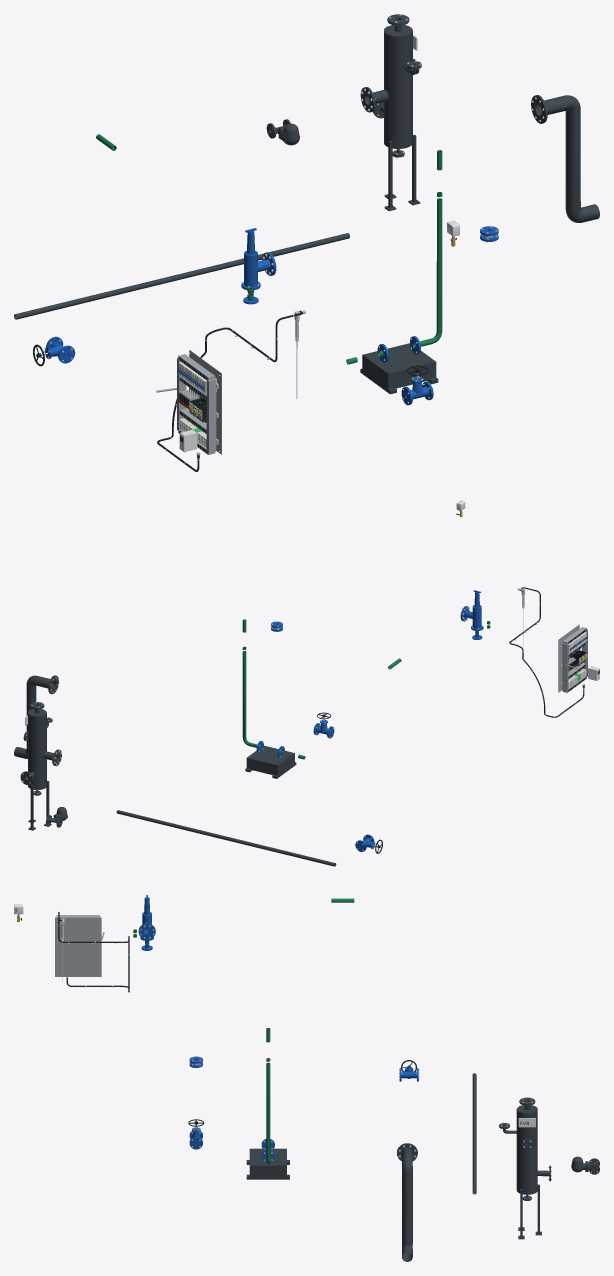
The picture shows the model from 3 angles, top to bottom: view 1: azimuth 30°, elevation 25°; view 2: azimuth 150°, elevation 25°; view 3: azimuth 270°, elevation 25°; orthographic projection. The views are drawn at different scales.
Parts seen in each view (by area): view 1: separator_fv8 / dark, cabinet_interior / cabinet_interior_0.npz, bdv_water_drain / dark, pump_branch_2 / dark, bottom_discharge / dark, pump_branch_2 / green, safety_2 / blue, drain_isolation_1 / drain_isolation_1_0.npz, wiring_high_level / black; view 2: separator_fv8 / dark, cabinet_interior / cabinet_interior_0.npz, pump_branch_2 / dark, bottom_discharge / dark, bdv_water_drain / dark, pump_branch_2 / green, safety_2 / blue; view 3: cabinet_interior / cabinet_interior_0.npz, separator_fv8 / dark, bdv_water_drain / dark, pump_branch_2 / dark, bottom_discharge / dark, pump_branch_2 / green.
Boxes of the visible parts, x1,y1,x2,y2 form: separator_fv8 / dark: [360, 14, 421, 210]; cabinet_interior / cabinet_interior_0.npz: [156, 350, 221, 454]; bdv_water_drain / dark: [531, 95, 599, 222]; pump_branch_2 / dark: [360, 343, 438, 394]; bottom_discharge / dark: [14, 233, 349, 319]; pump_branch_2 / green: [346, 150, 442, 364]; safety_2 / blue: [241, 228, 276, 290]; drain_isolation_1 / drain_isolation_1_0.npz: [33, 336, 75, 366]; wiring_high_level / black: [157, 310, 302, 471]; separator_fv8 / dark: [20, 702, 61, 830]; cabinet_interior / cabinet_interior_0.npz: [558, 624, 587, 692]; pump_branch_2 / dark: [245, 745, 296, 778]; bottom_discharge / dark: [116, 810, 336, 866]; bdv_water_drain / dark: [14, 675, 58, 758]; pump_branch_2 / green: [242, 619, 305, 759]; safety_2 / blue: [460, 590, 483, 630]; cabinet_interior / cabinet_interior_0.npz: [55, 915, 104, 976]; separator_fv8 / dark: [499, 1097, 550, 1239]; bdv_water_drain / dark: [397, 1143, 417, 1261]; pump_branch_2 / dark: [246, 1148, 289, 1179]; bottom_discharge / dark: [472, 1073, 476, 1194]; pump_branch_2 / green: [266, 1028, 270, 1164].
Bounding box in the file's own units: 5.68 × 2.57 × 6.11.
